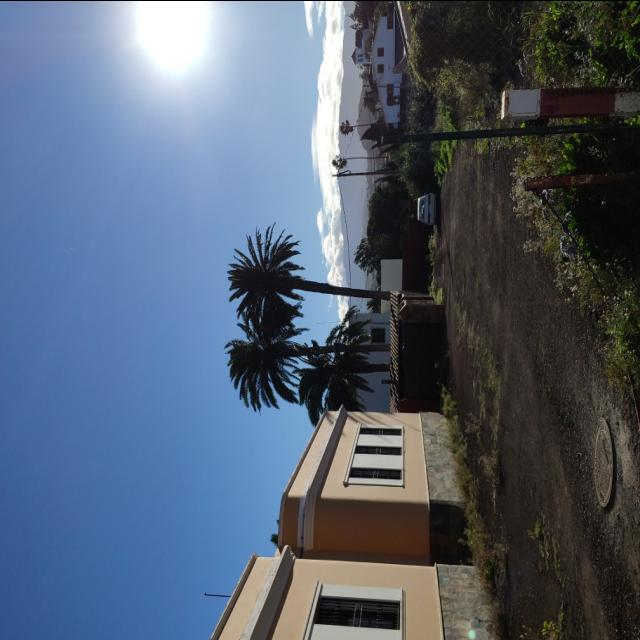Palm-Trees: (227, 220, 390, 324), (223, 322, 391, 414), (290, 303, 390, 427)
